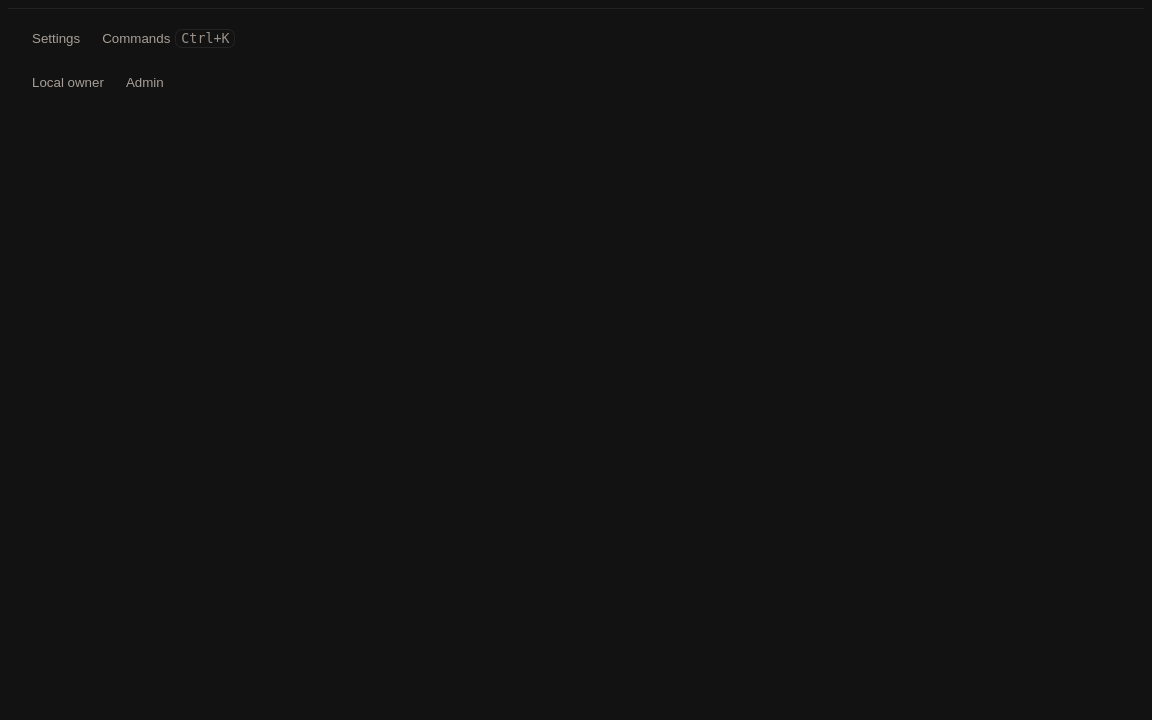
clears remote drafts and switches all reads and policy writes back to the explicitly selected machine
Click the button "Admin": click(145, 82) x1=118 y1=64 x2=172 y2=100
(page scrolled)
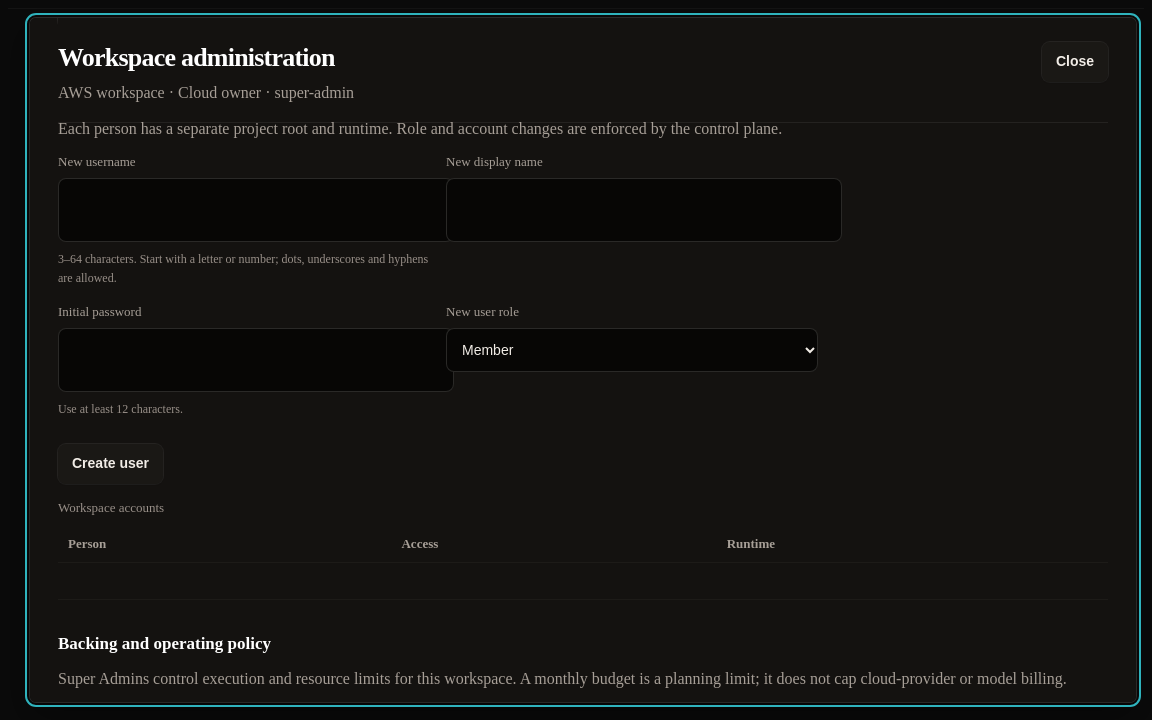
In the password field labelled "Initial password": (256, 360) x1=58 y1=328 x2=454 y2=392, type "cloud-draft-secret"
(page scrolled)
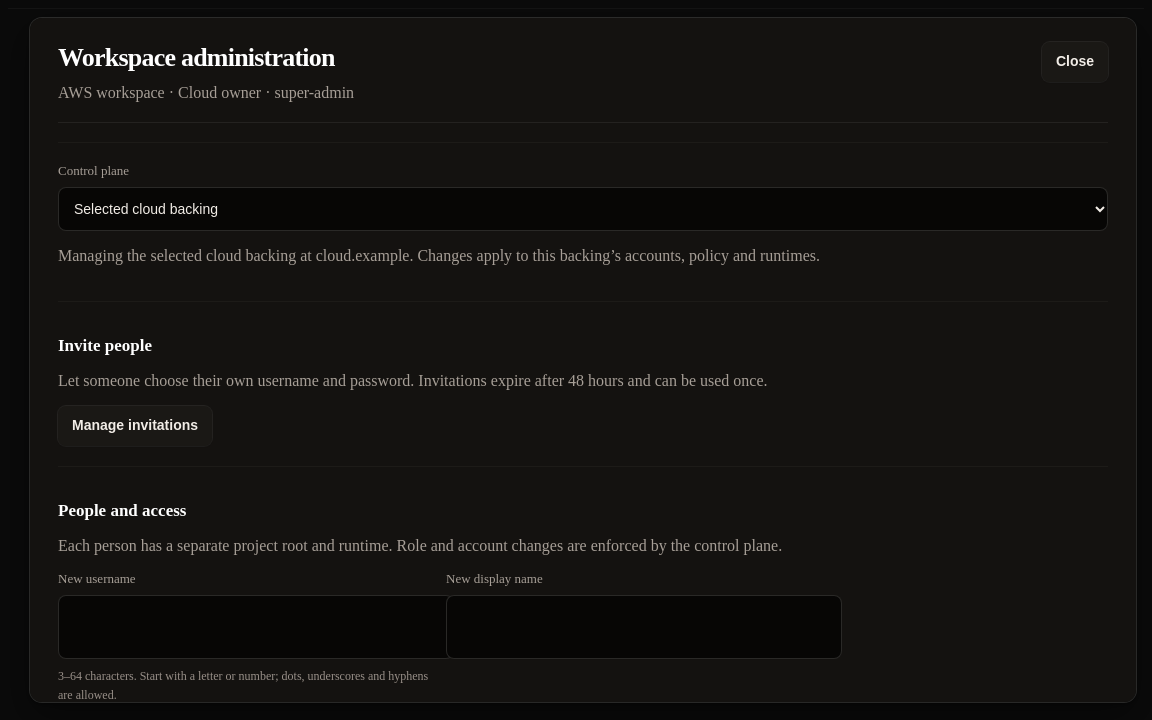
Select "This machine" in the dropdown labelled "Control plane": (583, 209) x1=58 y1=187 x2=1108 y2=231
(page scrolled)
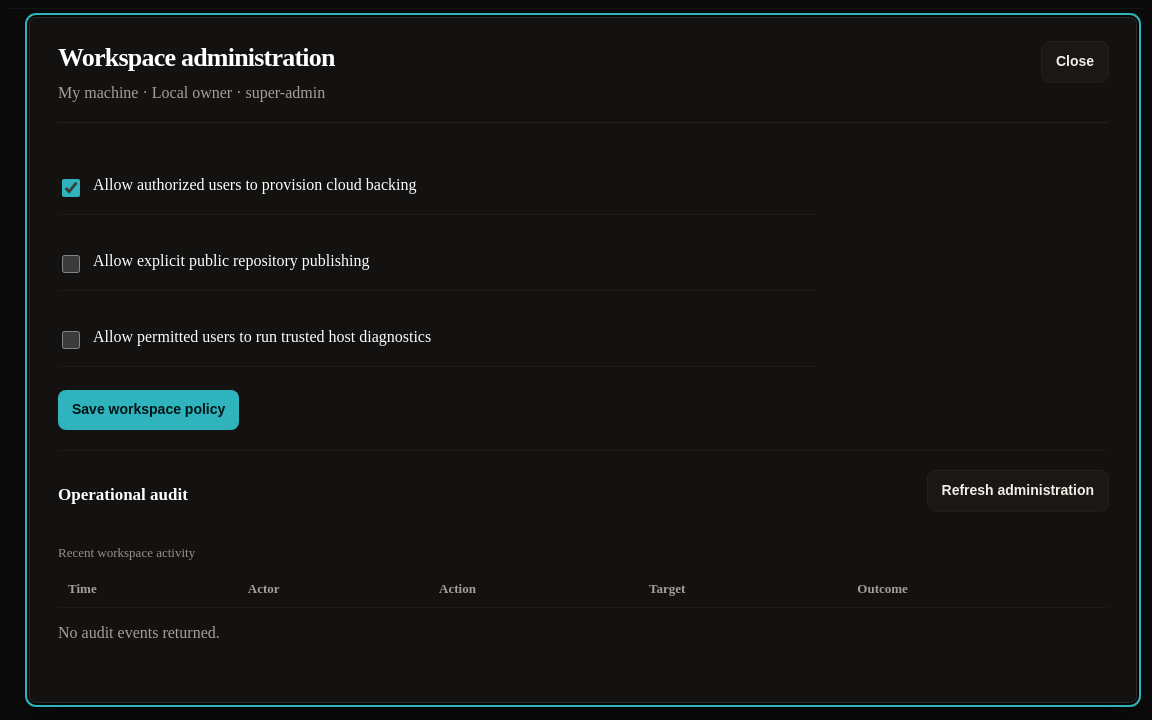
Expected: the text "My machine · Local owner · super-admin" is shown, x1=58 y1=80 x2=335 y2=106
Click the button "Save workspace policy": click(149, 410) x1=58 y1=390 x2=239 y2=430
(page scrolled)
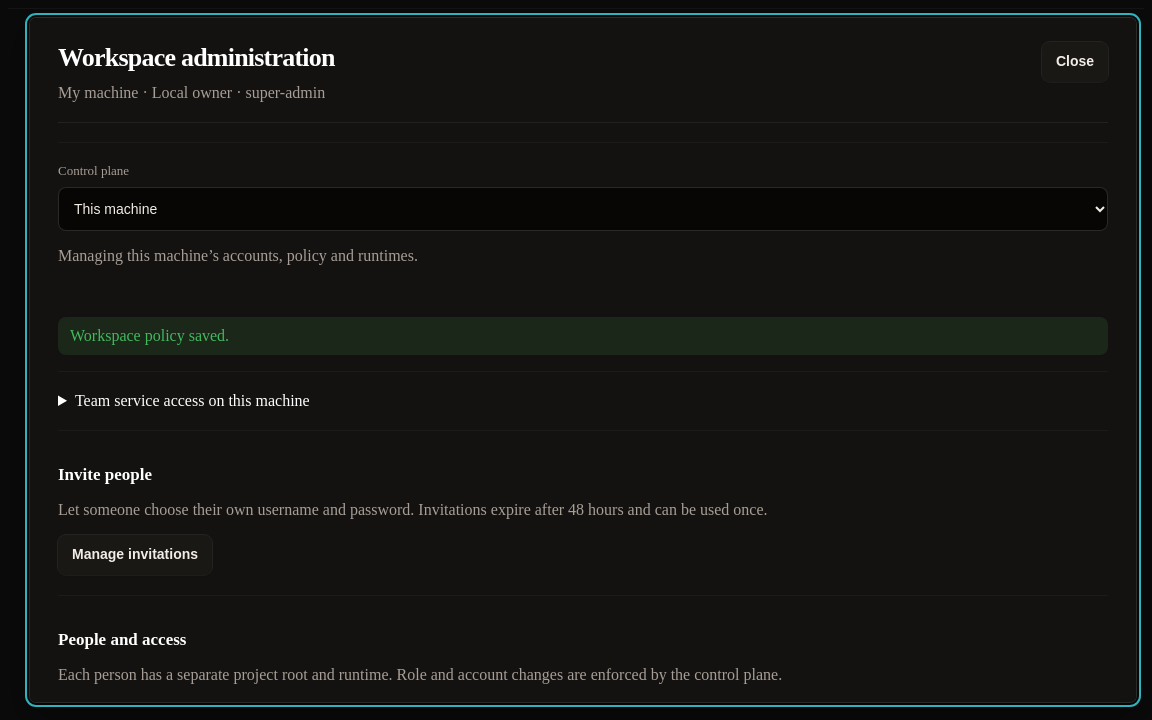
Expected: the text "Workspace policy saved." is shown, x1=58 y1=317 x2=1108 y2=355
